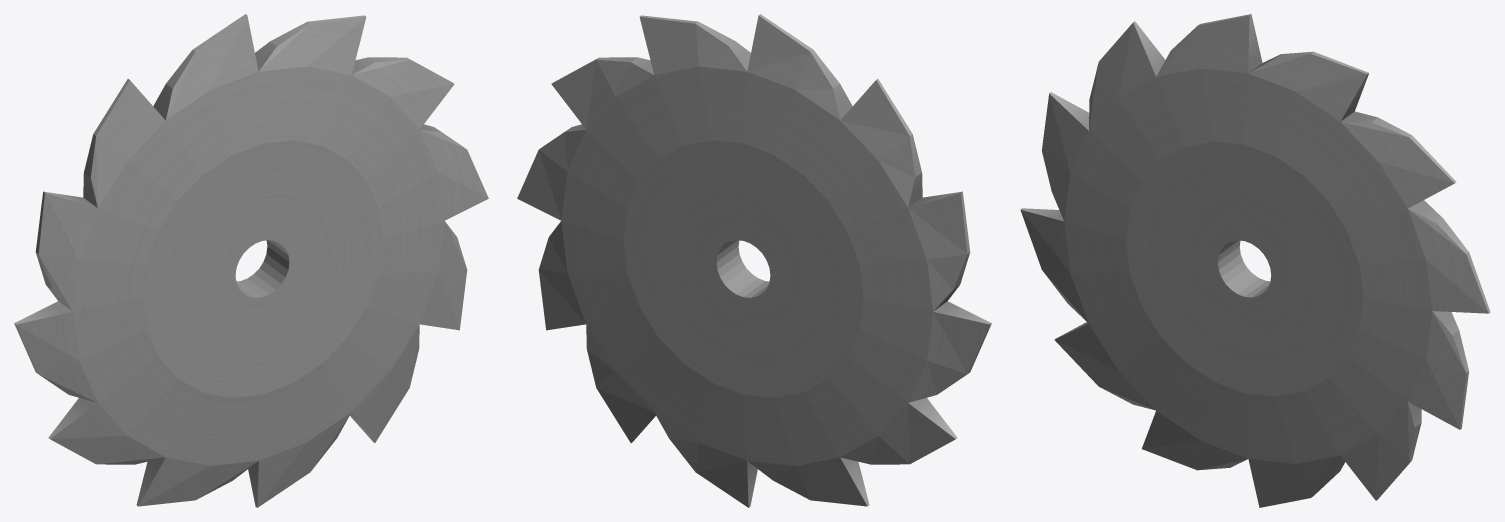
The model's file is saw.fbx.
3 renders of one model, left to right at view 1: azimuth 30°, elevation 25°; view 2: azimuth 150°, elevation 25°; view 3: azimuth 330°, elevation 25°, orthographic.
Parts seen in each view (by area): view 1: saw; view 2: saw; view 3: saw.
Boxes of the visible parts, x1=… form: saw: x1=14, y1=14, x2=488, y2=507; saw: x1=517, y1=14, x2=991, y2=507; saw: x1=1020, y1=14, x2=1490, y2=507.
Bounding box in the file's own units: 34.46 × 34.46 × 2.79.
Materials: 1 (1 with a texture image).
